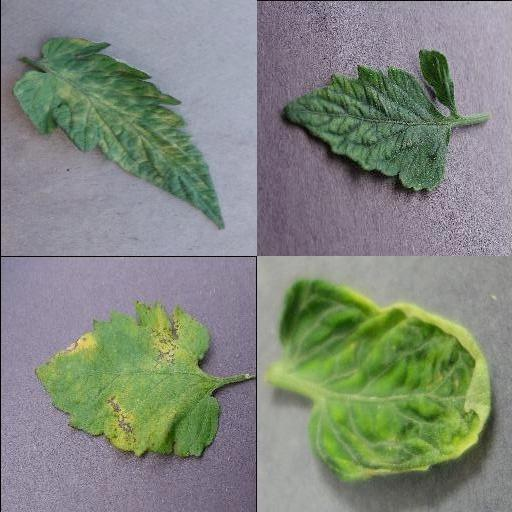Leaf Mold: (10, 40, 226, 229)
Mosaic Virus: (280, 48, 457, 194)
Septoria: (32, 298, 218, 458)
Yellow Leaf Curl Virus: (277, 278, 491, 480)
